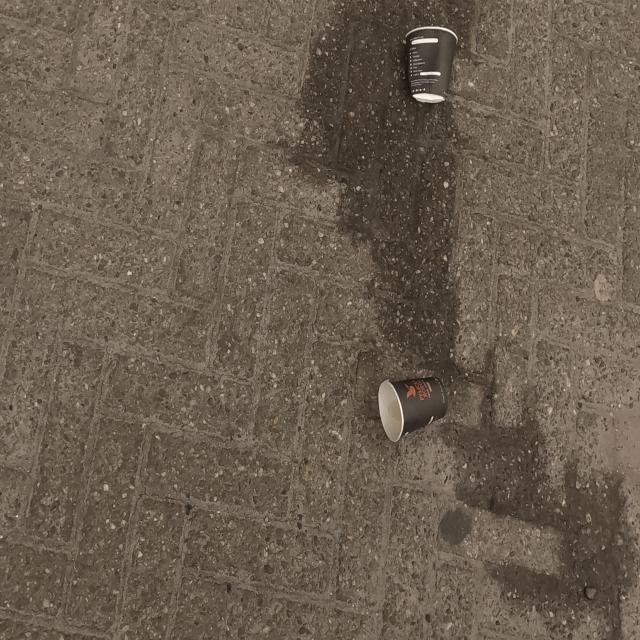Cup: (377, 376, 449, 444), (404, 24, 458, 104)
